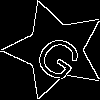G: (30, 25, 92, 85)
